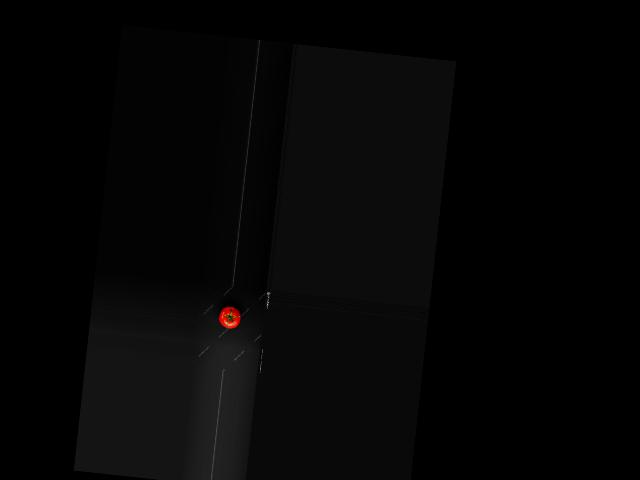tomato: (217, 305, 242, 330)
